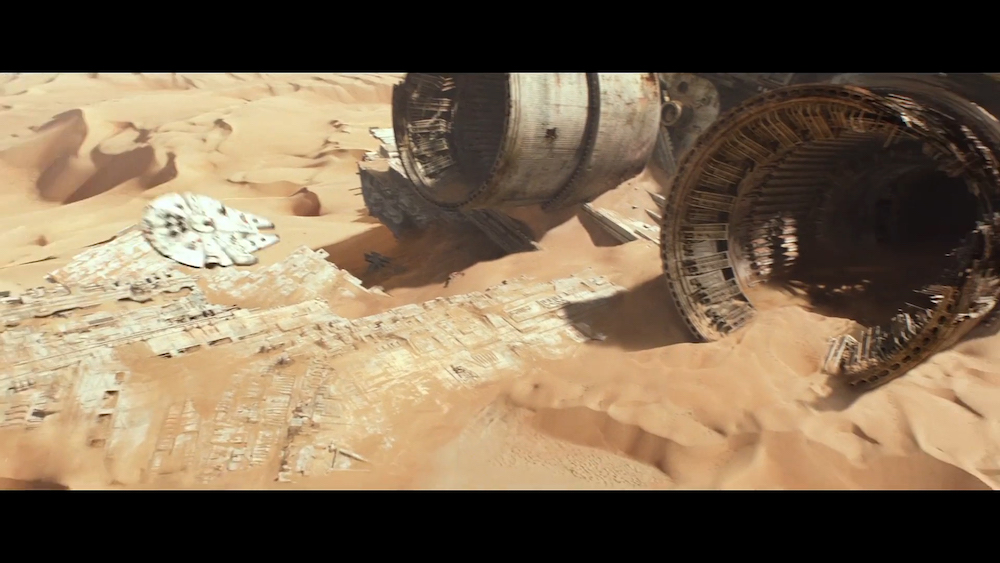Millennium Falcon: (140, 190, 283, 272)
